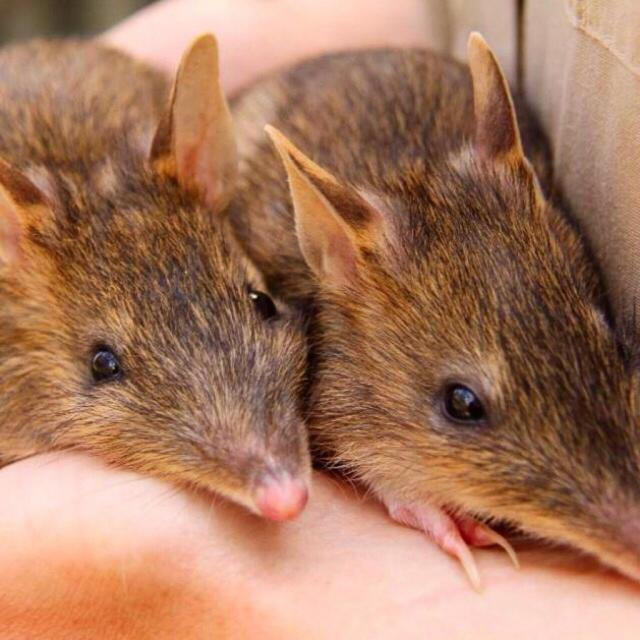rat: (226, 32, 639, 598), (0, 30, 312, 521)
